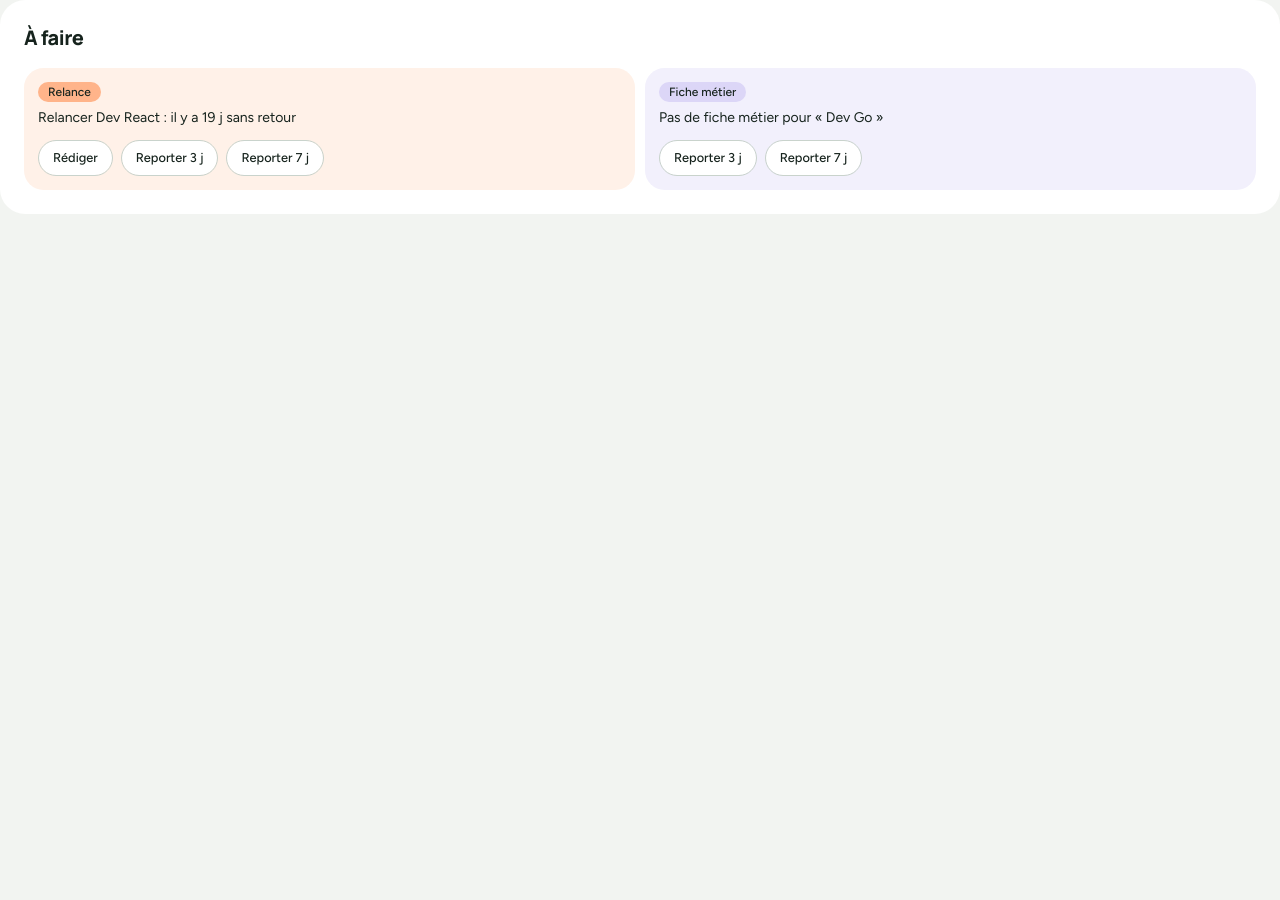
it: TodoBanner › removes the reminder of a sent follow up, focuses the banner title and announces it
The width and height of the screenshot is (1280, 900).
Click the button with aria-label "Rédiger une relance pour « Dev React »" at point(75, 158), box [38, 140, 113, 176]
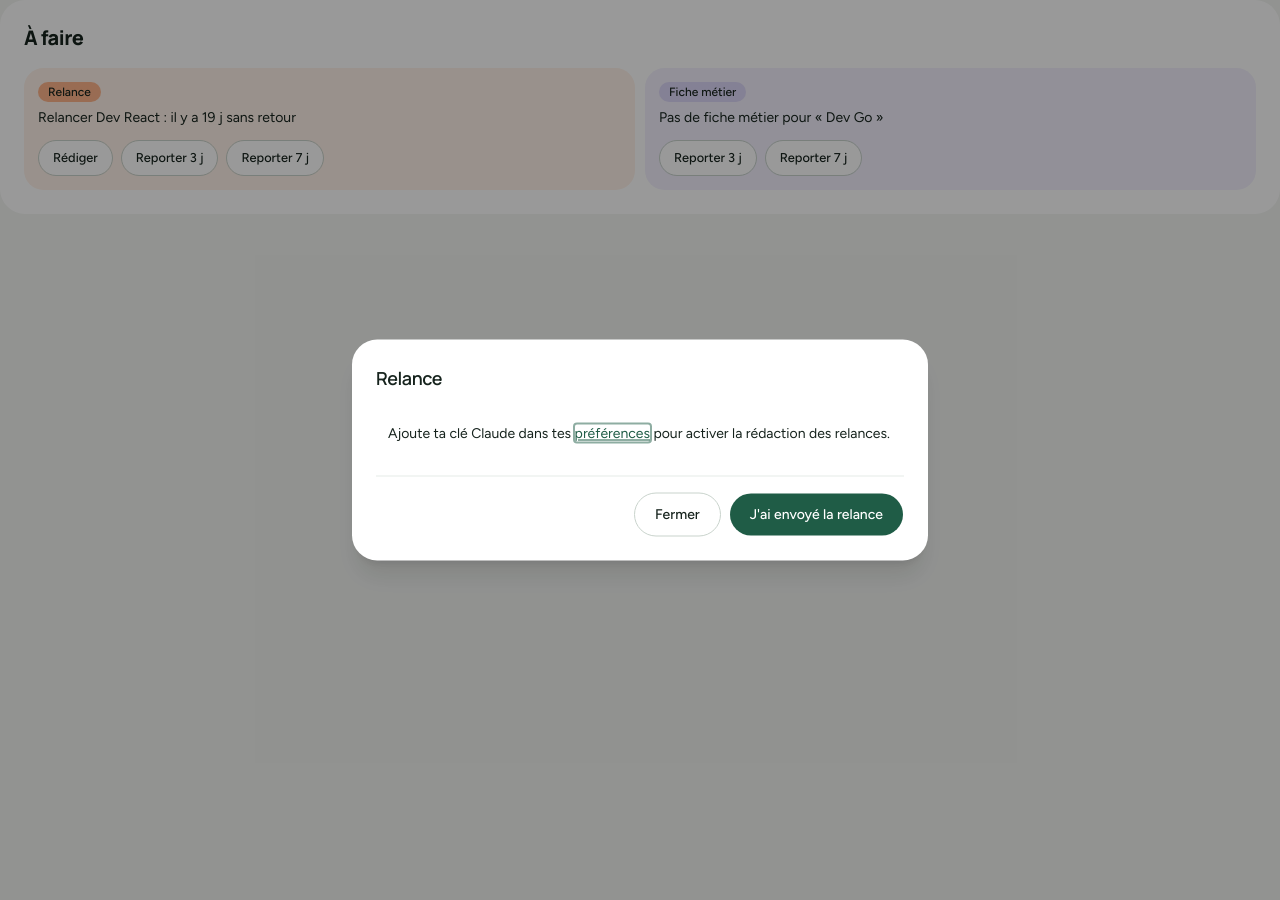
Click the button "J'ai envoyé la relance" at point(816, 514), box [729, 492, 904, 536]
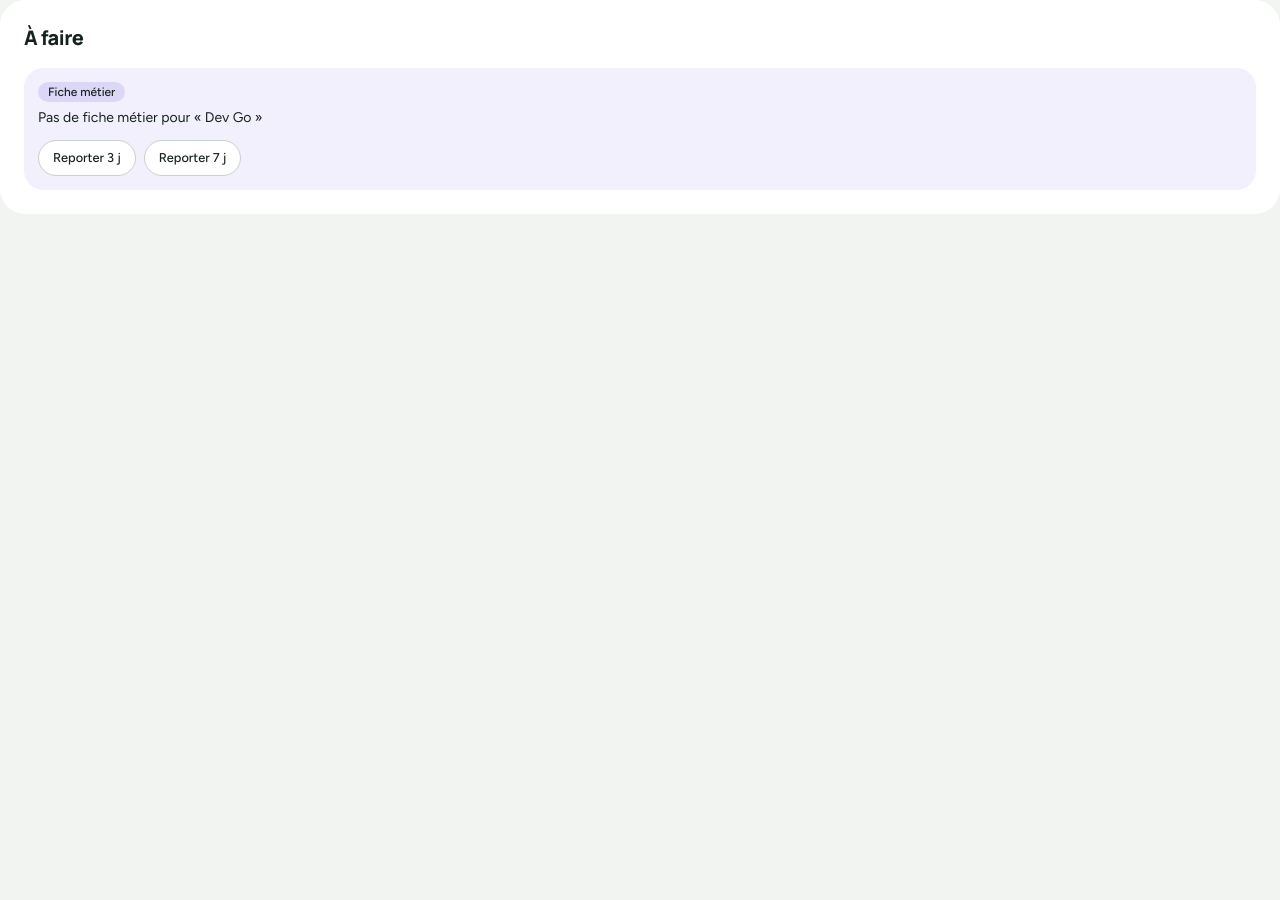
Result: the number of list items is 1 at [24, 68, 1256, 190]
Result: the dialog is gone
